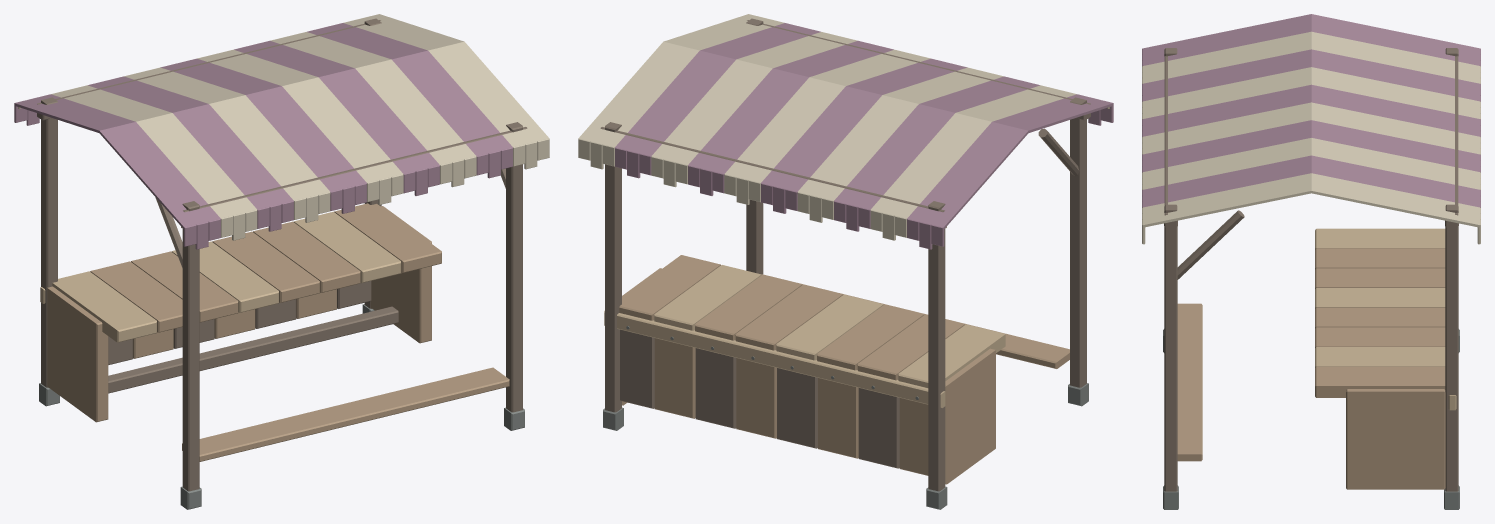
Rendered from Stall.fbx.
The picture shows the model from 3 angles, left to right: view 1: azimuth 30°, elevation 25°; view 2: azimuth 150°, elevation 25°; view 3: azimuth 270°, elevation 25°; orthographic projection.
Visible parts, largest first — view 1: Body__FabricPlum, Body__Timber, Body__FabricCream, Body__TimberDark, Body__TimberLight, Body__Steel; view 2: Body__FabricPlum, Body__FabricCream, Body__Timber, Body__TimberDark, Body__TimberLight, Body__Steel; view 3: Body__FabricCream, Body__FabricPlum, Body__Timber, Body__TimberDark, Body__TimberLight, Body__Steel.
Part boxes in pixels (x1=…): Body__FabricPlum: x1=14, y1=23, x2=512, y2=249; Body__Timber: x1=47, y1=203, x2=509, y2=461; Body__FabricCream: x1=51, y1=14, x2=549, y2=240; Body__TimberDark: x1=37, y1=18, x2=527, y2=491; Body__TimberLight: x1=40, y1=211, x2=401, y2=342; Body__Steel: x1=39, y1=304, x2=524, y2=509; Body__FabricPlum: x1=615, y1=23, x2=1113, y2=249; Body__FabricCream: x1=578, y1=14, x2=1076, y2=240; Body__Timber: x1=619, y1=255, x2=1069, y2=484; Body__TimberDark: x1=600, y1=18, x2=1090, y2=491; Body__TimberLight: x1=604, y1=265, x2=1005, y2=407; Body__Steel: x1=603, y1=326, x2=1088, y2=509; Body__FabricCream: x1=1142, y1=31, x2=1480, y2=244; Body__FabricPlum: x1=1142, y1=14, x2=1480, y2=207; Body__Timber: x1=1177, y1=248, x2=1445, y2=489; Body__TimberDark: x1=1164, y1=48, x2=1458, y2=491; Body__TimberLight: x1=1315, y1=228, x2=1456, y2=410; Body__Steel: x1=1163, y1=329, x2=1459, y2=509.
Size of the model in its own units: 2.98 by 2.56 by 2.41.
